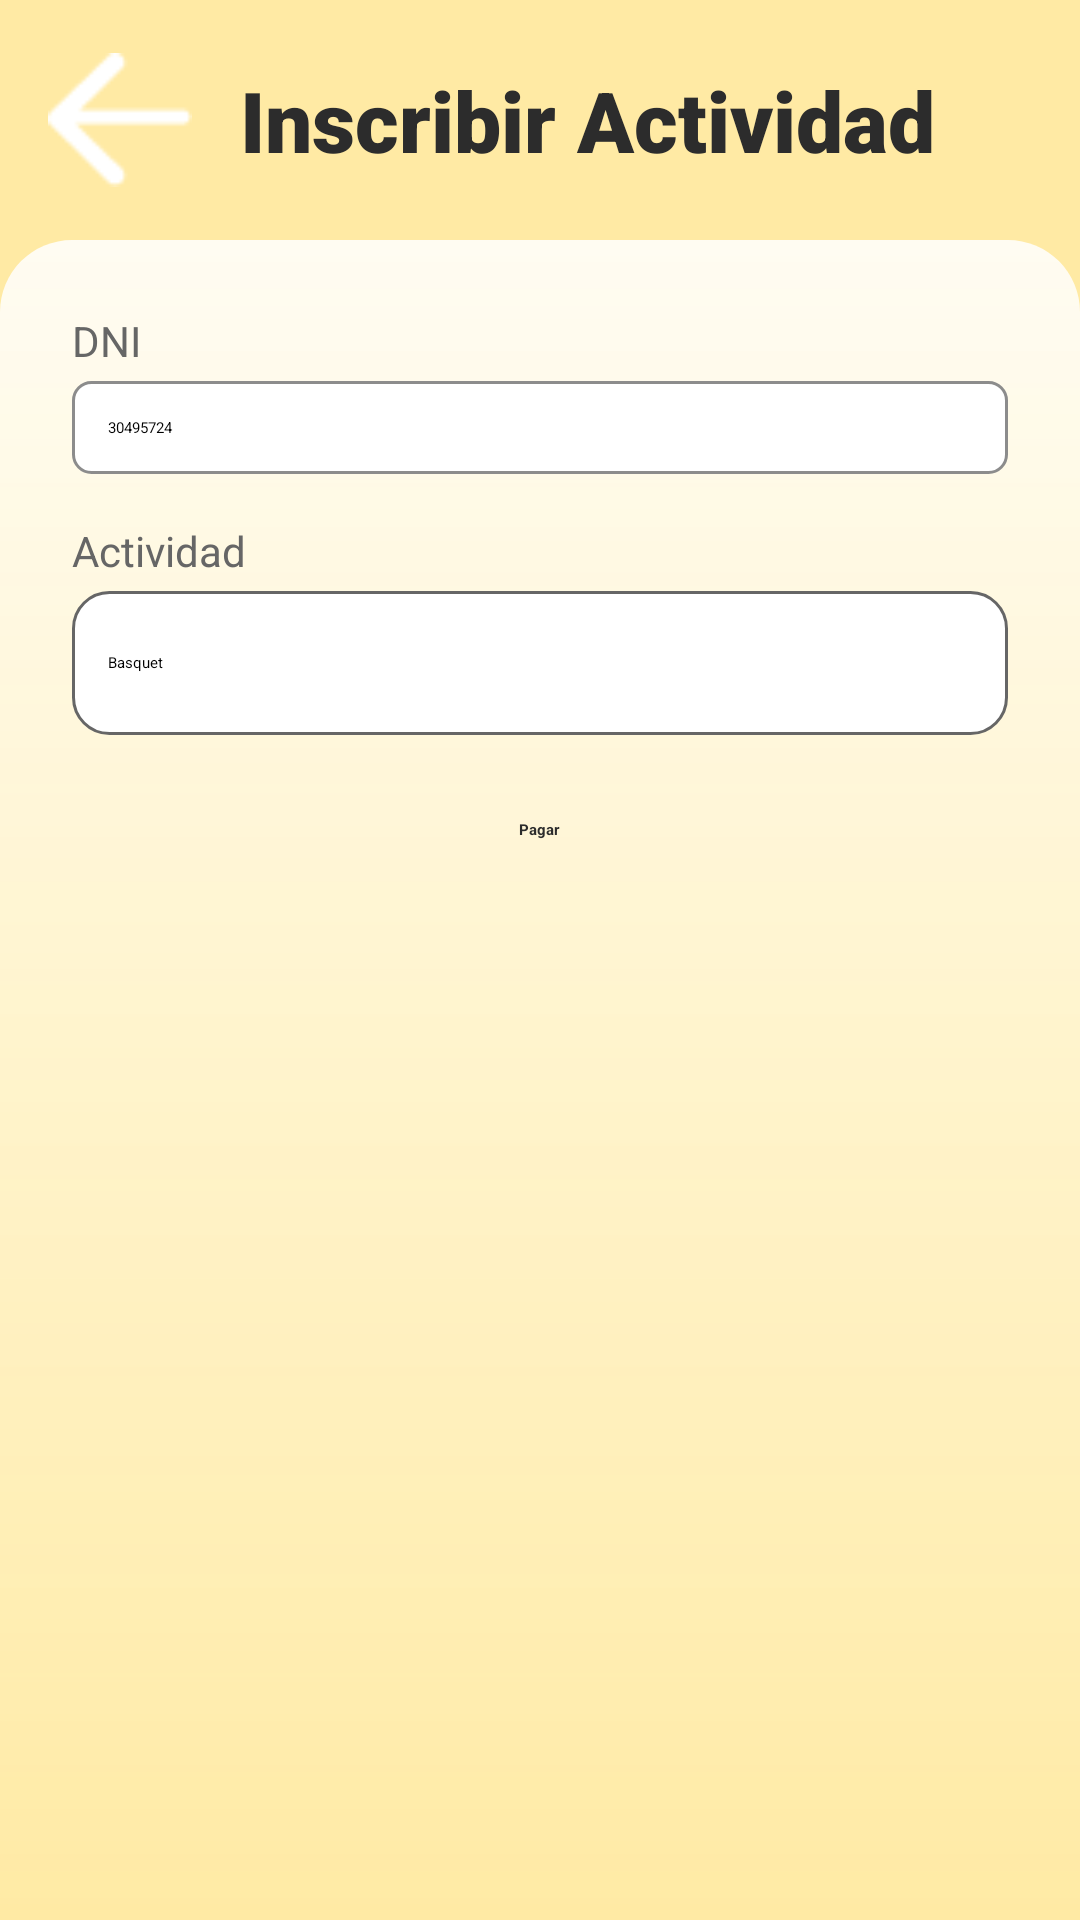

Locate icon controls on the screen. Image size 1080 x 1920, boxes as (x1, y1, x2, y2).
atras: (48, 53, 192, 185)
